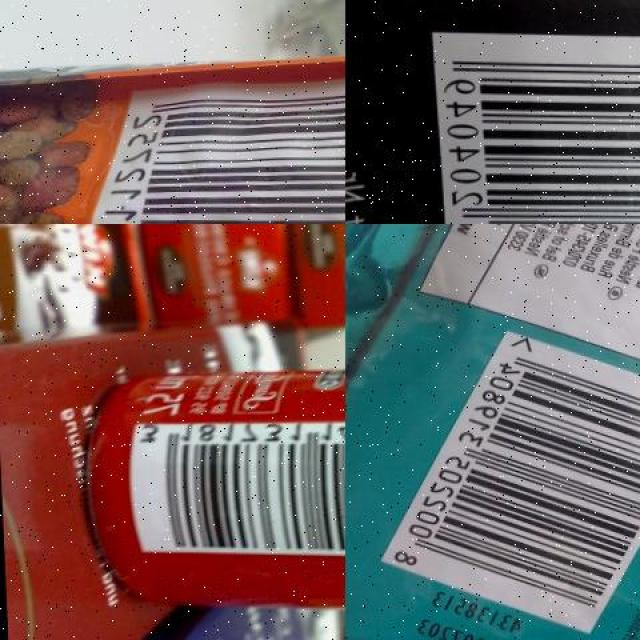Barcode: (372, 327, 640, 633), (82, 68, 346, 224), (430, 30, 640, 224), (122, 415, 346, 556)
